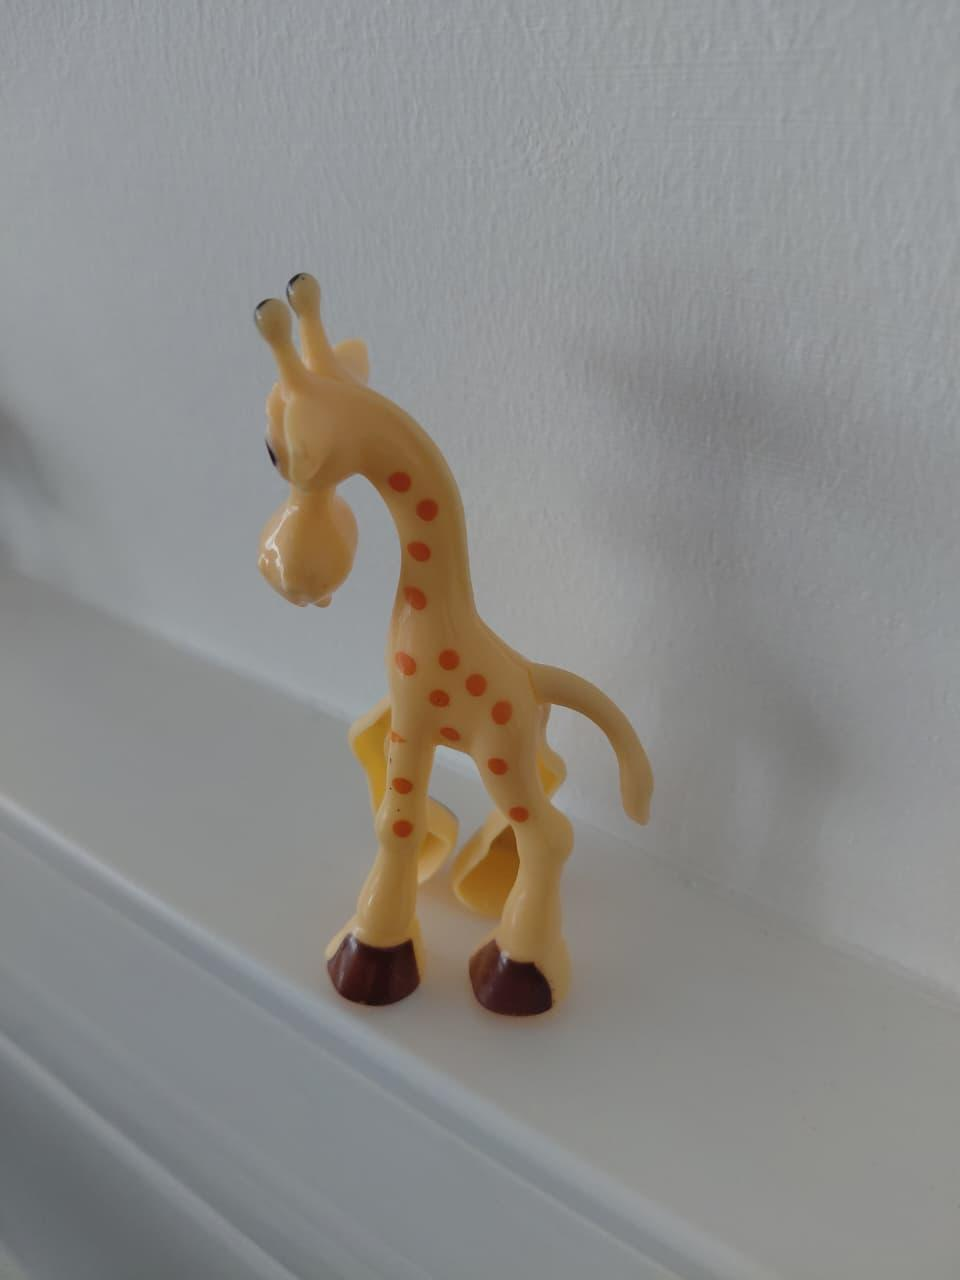giraffe: (183, 208, 698, 1107)
